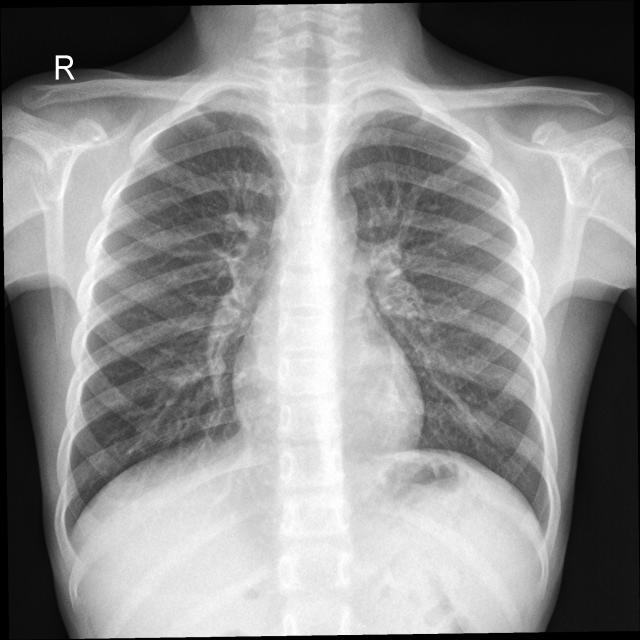no-pneumonia: (66, 113, 280, 527), (344, 114, 552, 529)
